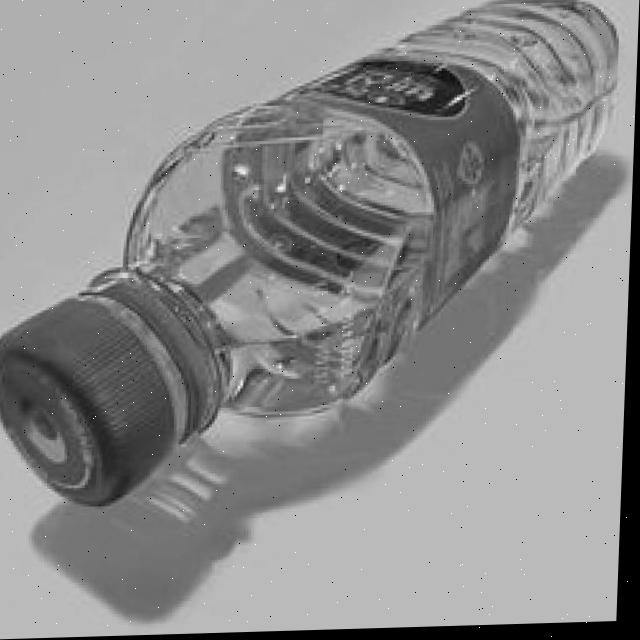bottle: (0, 0, 633, 541)
